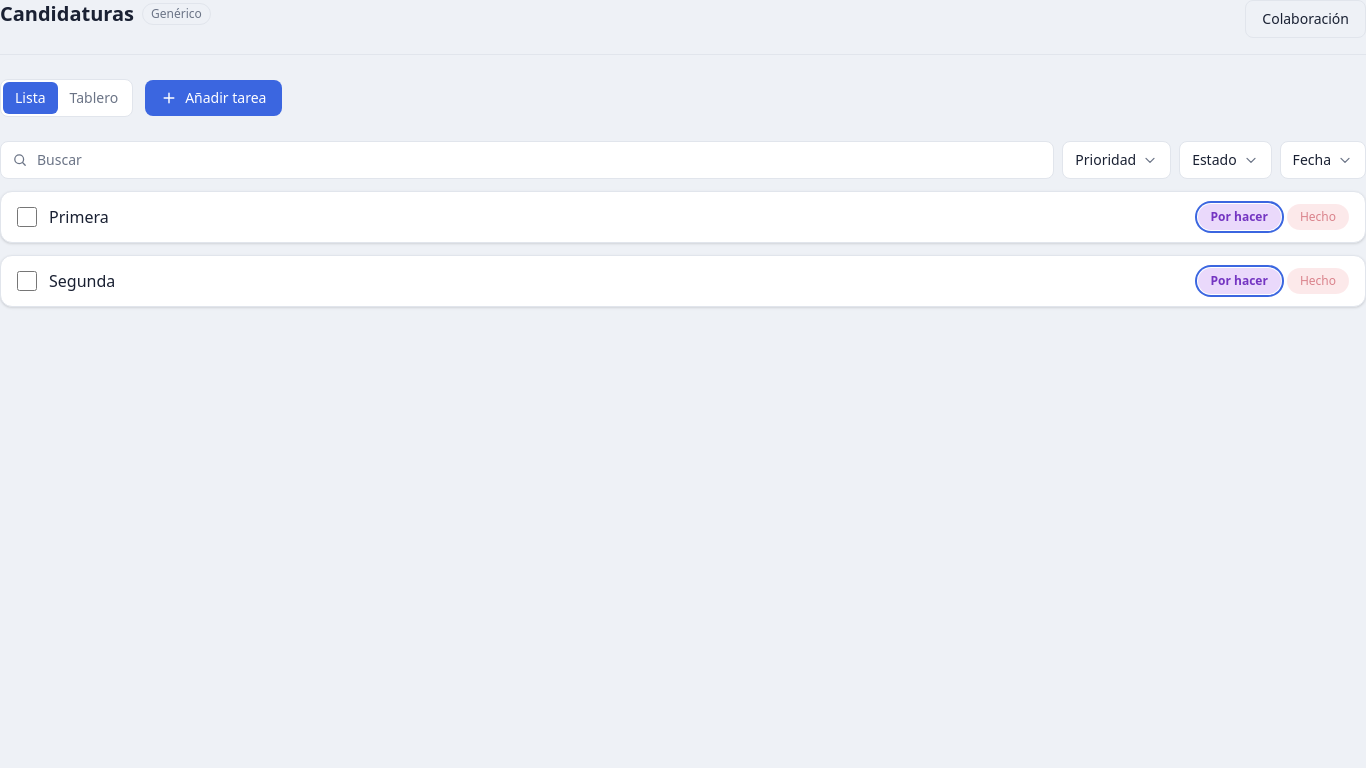
Scenario: BoardPage: añadir tarea o candidatura › el botón junto a Lista/Tablero abre el pop-up de nueva tarea
The width and height of the screenshot is (1366, 768).
Click the button "Añadir tarea" at (214, 98), box [145,80,282,116]
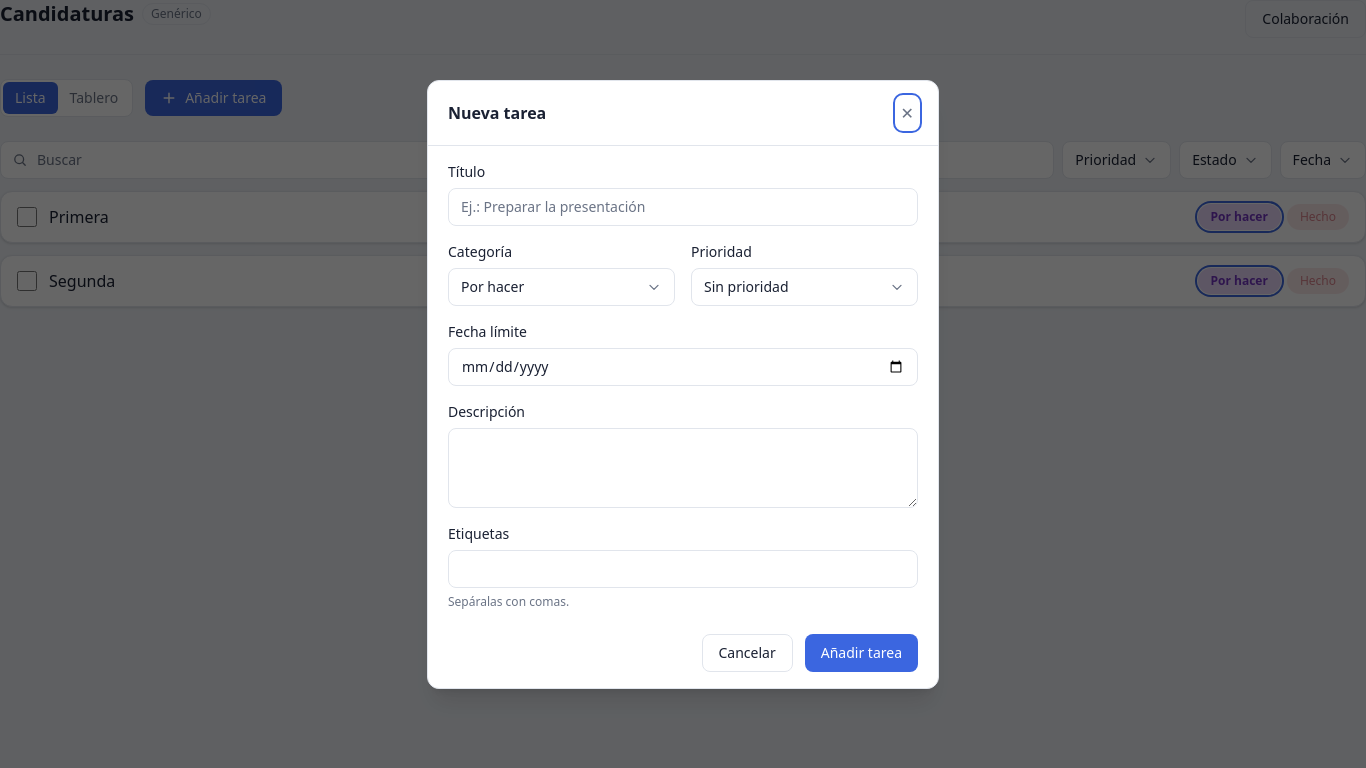
expect the dialog "Nueva tarea" is shown: met, box [427,80,939,688]
